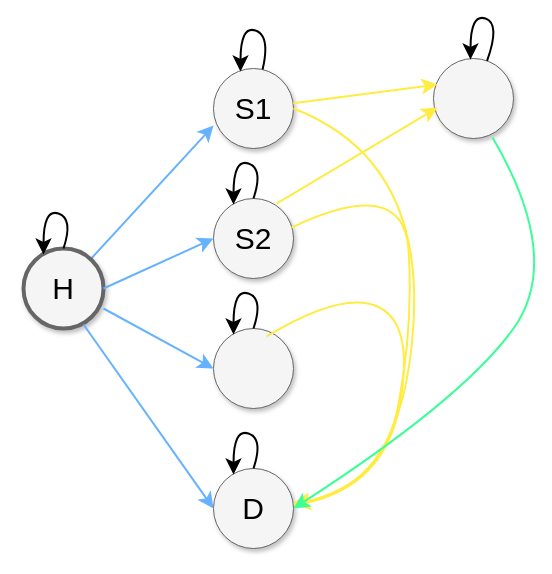
Some shapes in this 552 by 574 pixel diagram are drawn without their labels. The centre of each missing label's shape, as x and y in pixels:
"S1 & S2" goes at (474,100).
"SN" goes at (254,370).
